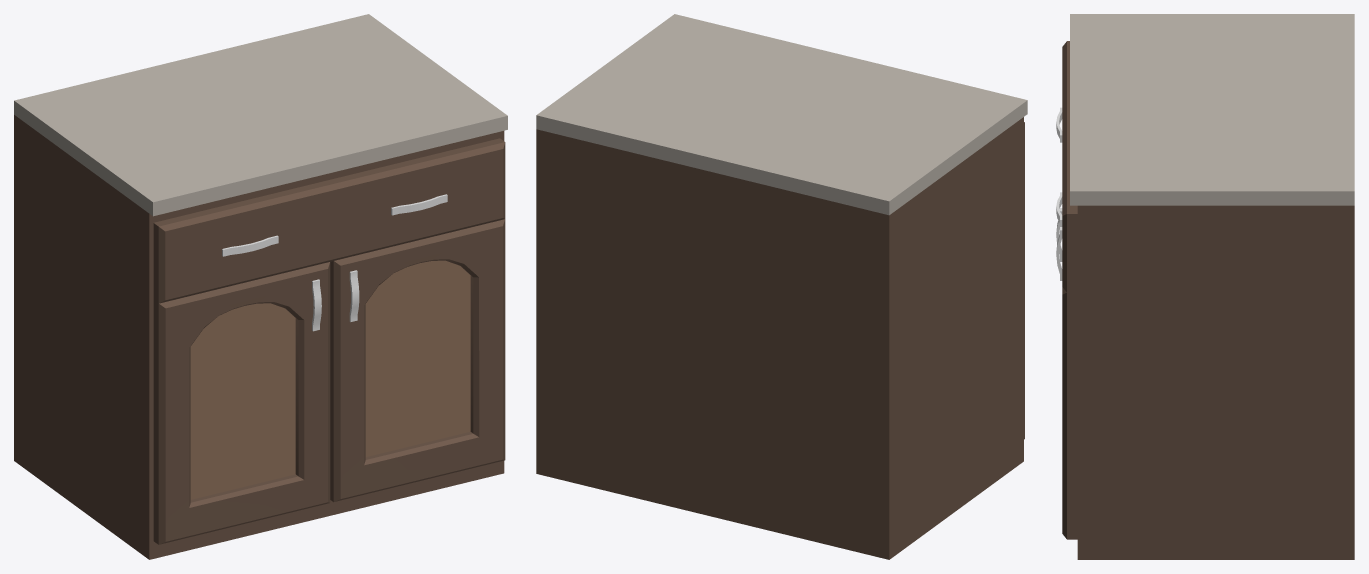
The picture shows the model from 3 angles, left to right: view 1: azimuth 30°, elevation 25°; view 2: azimuth 150°, elevation 25°; view 3: azimuth 270°, elevation 25°; orthographic projection. The views are drawn at different scales.
Visible parts, largest first — view 1: Counter_02_02, polySurface13, polySurface18, polySurface15, polySurface17; view 2: Counter_02_02; view 3: Counter_02_02, polySurface18, polySurface15, polySurface17.
Boxes of the visible parts, x1,y1,x2,y2 form: Counter_02_02: [14, 14, 507, 559]; polySurface13: [153, 262, 330, 544]; polySurface18: [330, 219, 505, 502]; polySurface15: [153, 138, 505, 303]; polySurface17: [222, 194, 447, 331]; Counter_02_02: [536, 14, 1027, 559]; Counter_02_02: [1070, 14, 1354, 559]; polySurface18: [1062, 287, 1077, 539]; polySurface15: [1062, 41, 1077, 292]; polySurface17: [1056, 107, 1062, 280].
Size of the model in its own units: 100 by 97.04 by 71.13.
